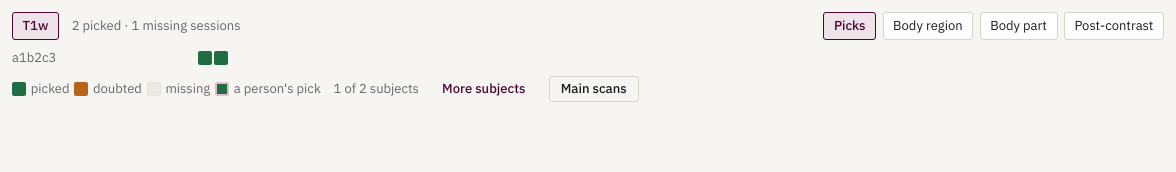
the heatmap with a layer › reads the step alone again while it runs, and keeps the pages read with More
Step 1. Click the button "Body region" → {"x": 928, "y": 26}, box [882,12,973,40]
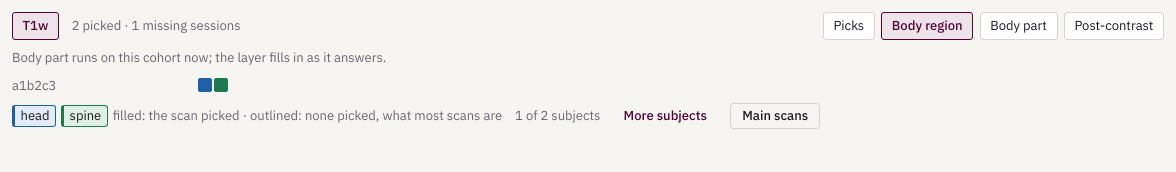
Step 2. Click the button "More subjects" → {"x": 665, "y": 116}, box [613,103,717,129]
Wait 15000 ms
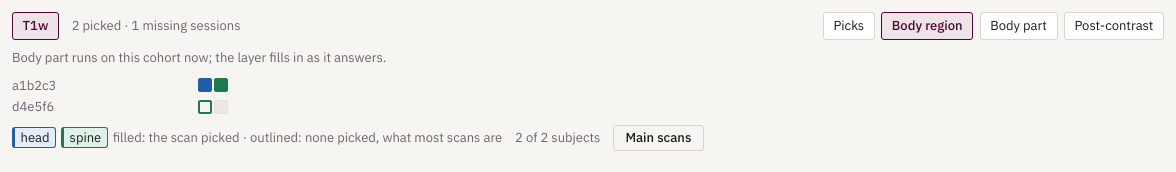
Check: the number of list items with class "heat-row" is 2, box [12,76,228,94]; [12,98,228,115]
